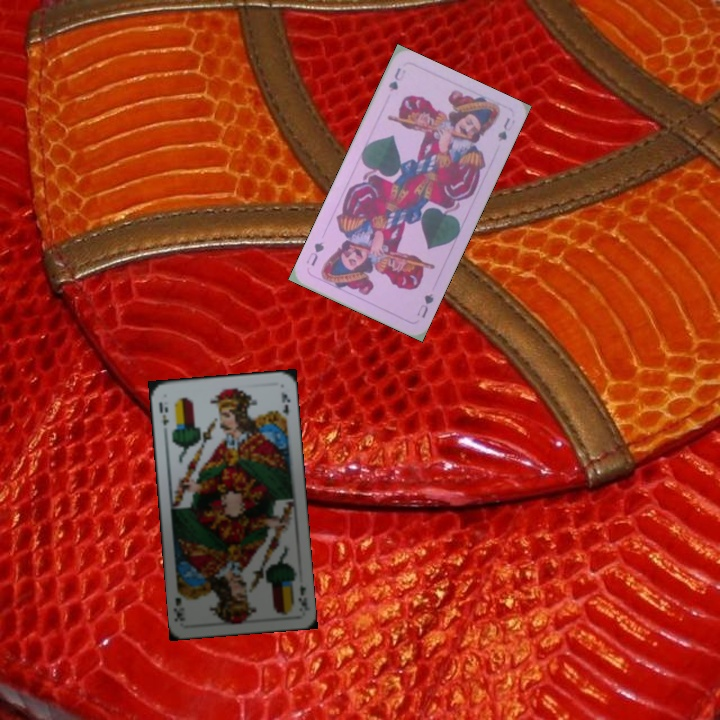EK: (294, 580, 311, 613), (155, 398, 172, 428)
GU: (413, 289, 436, 321), (384, 64, 408, 94)
